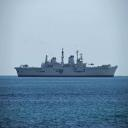Portanaves: (15, 45, 120, 79)
